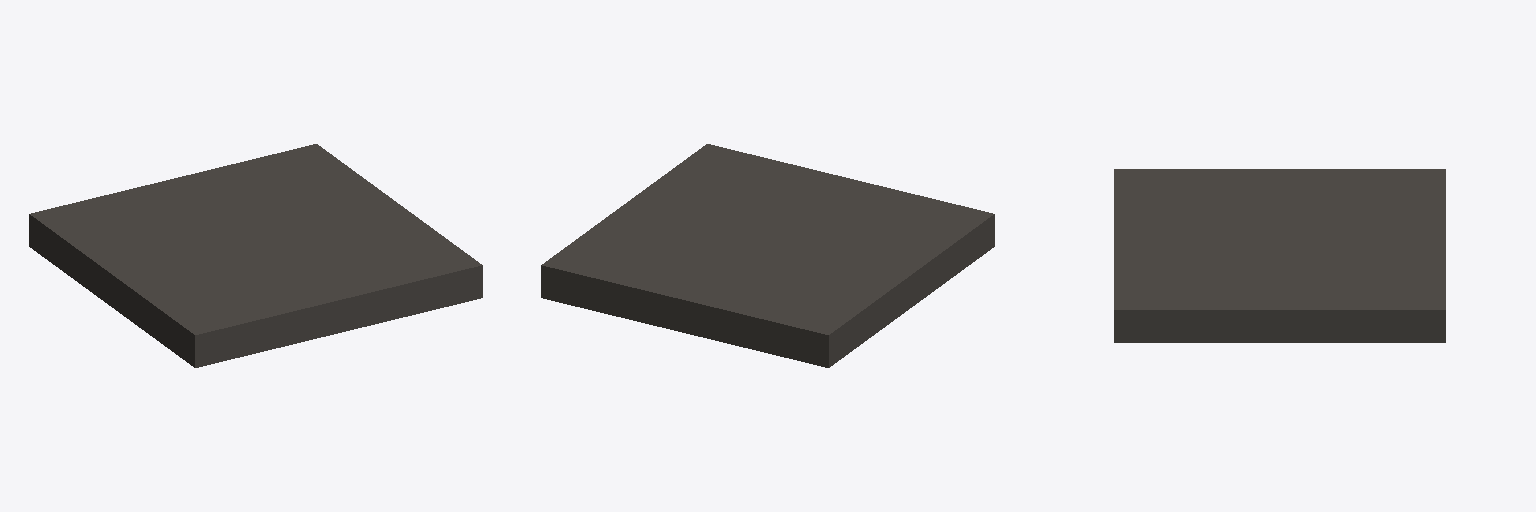
Rendered from lamp.obj.
The picture shows the model from 3 angles: view 1: azimuth 30°, elevation 25°; view 2: azimuth 150°, elevation 25°; view 3: azimuth 270°, elevation 25°; orthographic projection.
Visible parts, largest first — view 1: Cube; view 2: Cube; view 3: Cube.
Part boxes in pixels (left/top/right/bottom): Cube: left=29, top=144, right=482, bottom=367; Cube: left=541, top=144, right=994, bottom=367; Cube: left=1114, top=169, right=1445, bottom=342.
Size of the model in its own units: 1.3 by 0.1416 by 1.3.